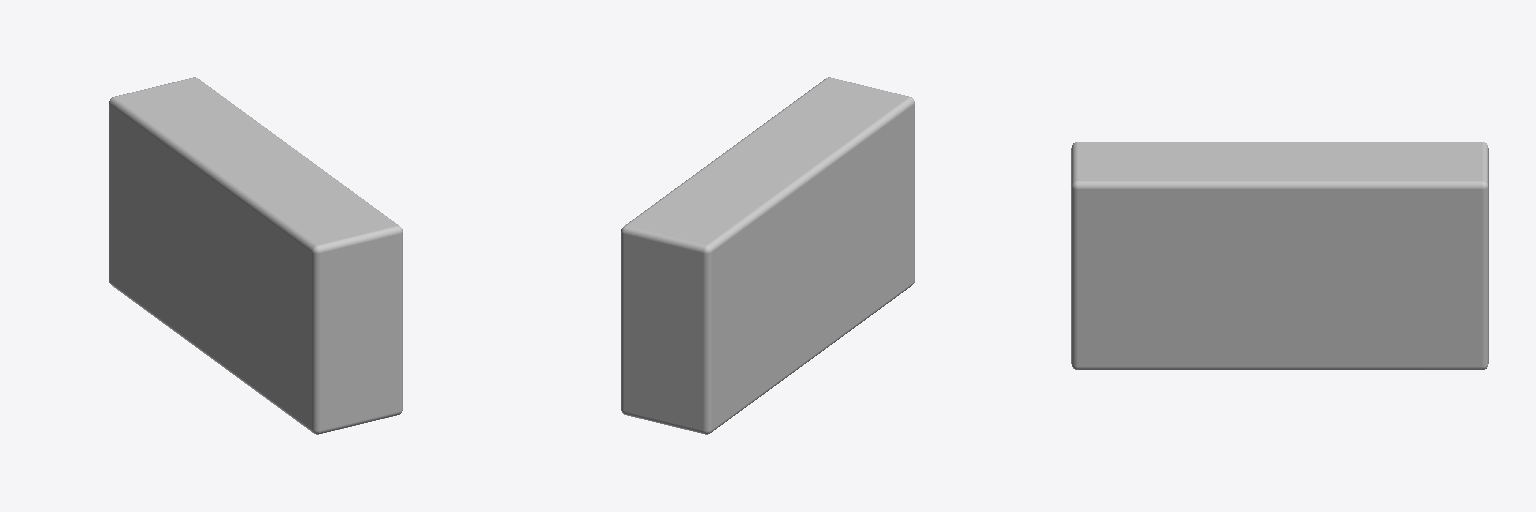
The model's file is foundation_convex_piece_0.obj.
3 views of the same model, side by side, from view 1: azimuth 30°, elevation 25°; view 2: azimuth 150°, elevation 25°; view 3: azimuth 270°, elevation 25° (orthographic).
Bounding box in the file's own units: 0.0397 × 0.0794 × 0.1587.